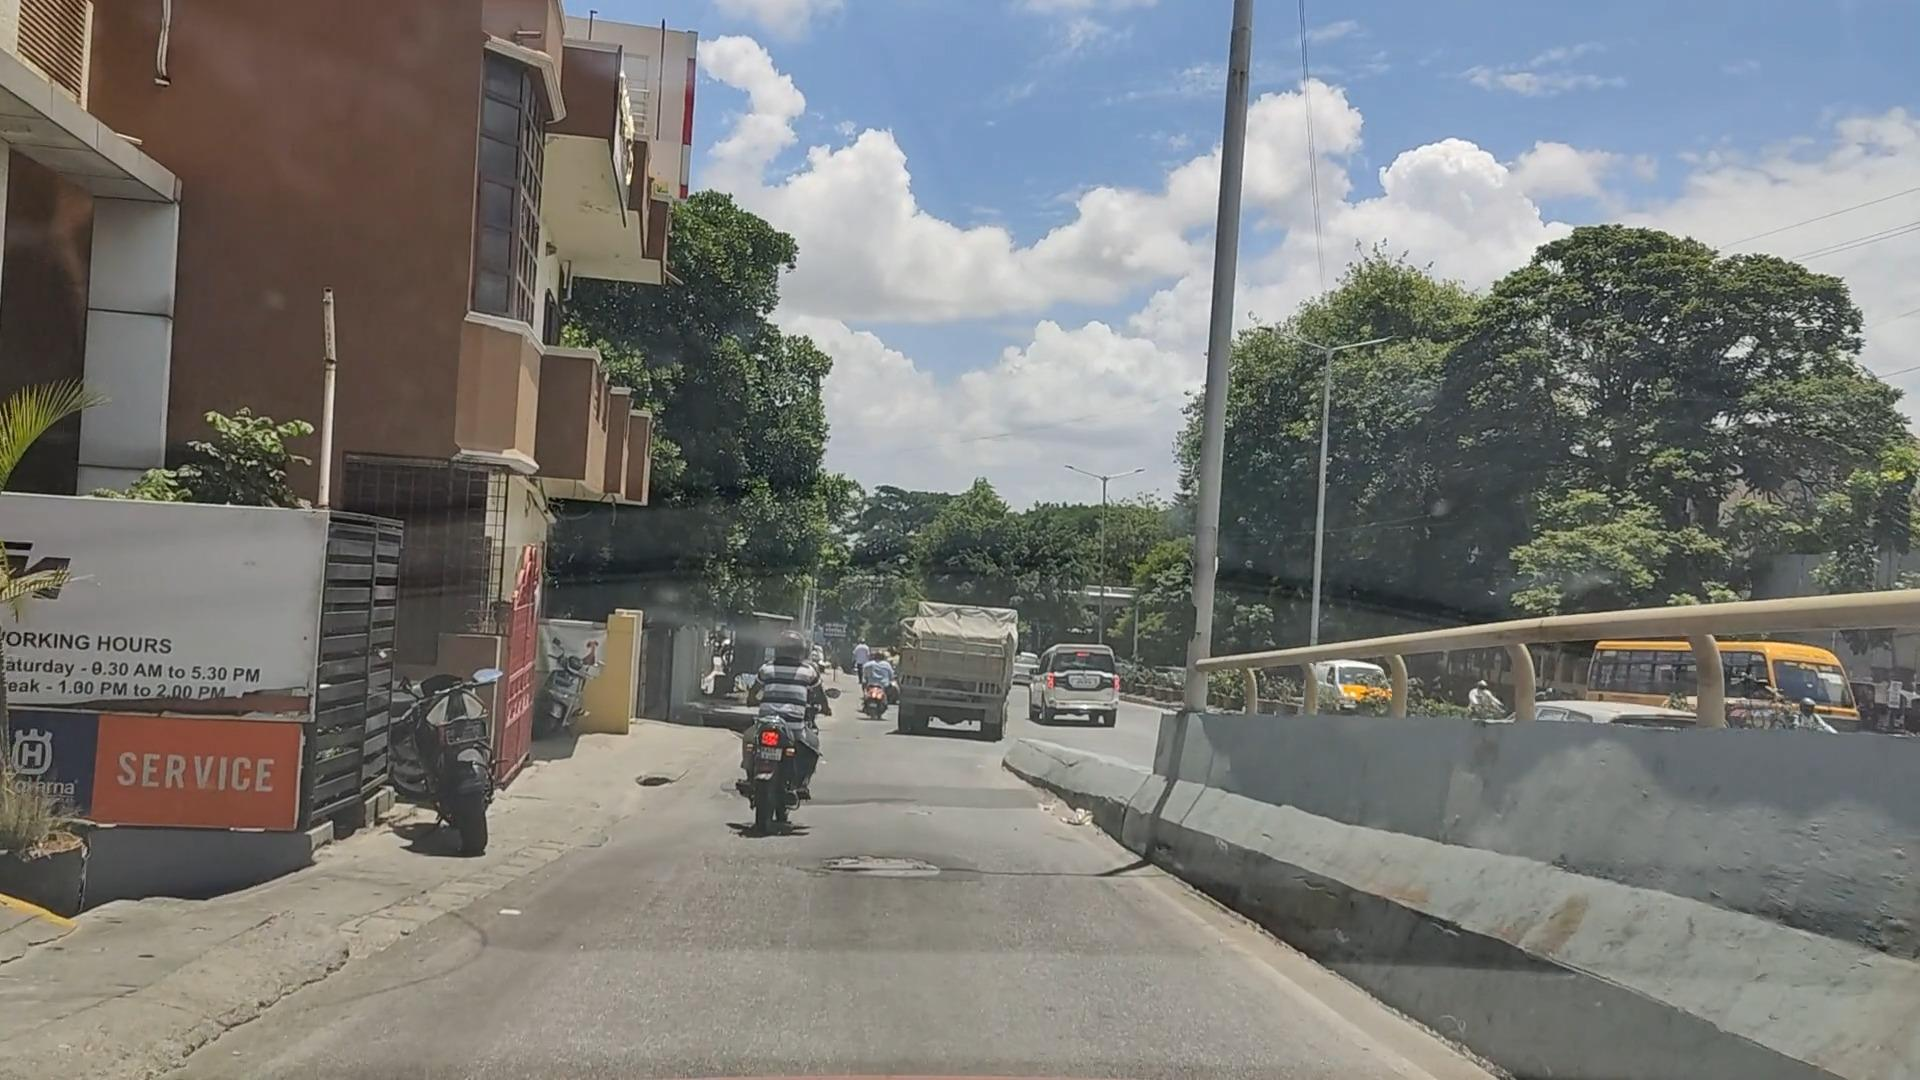HMV: (886, 593, 1029, 752)
RoadDamages: (795, 828, 969, 894), (626, 754, 700, 814)
